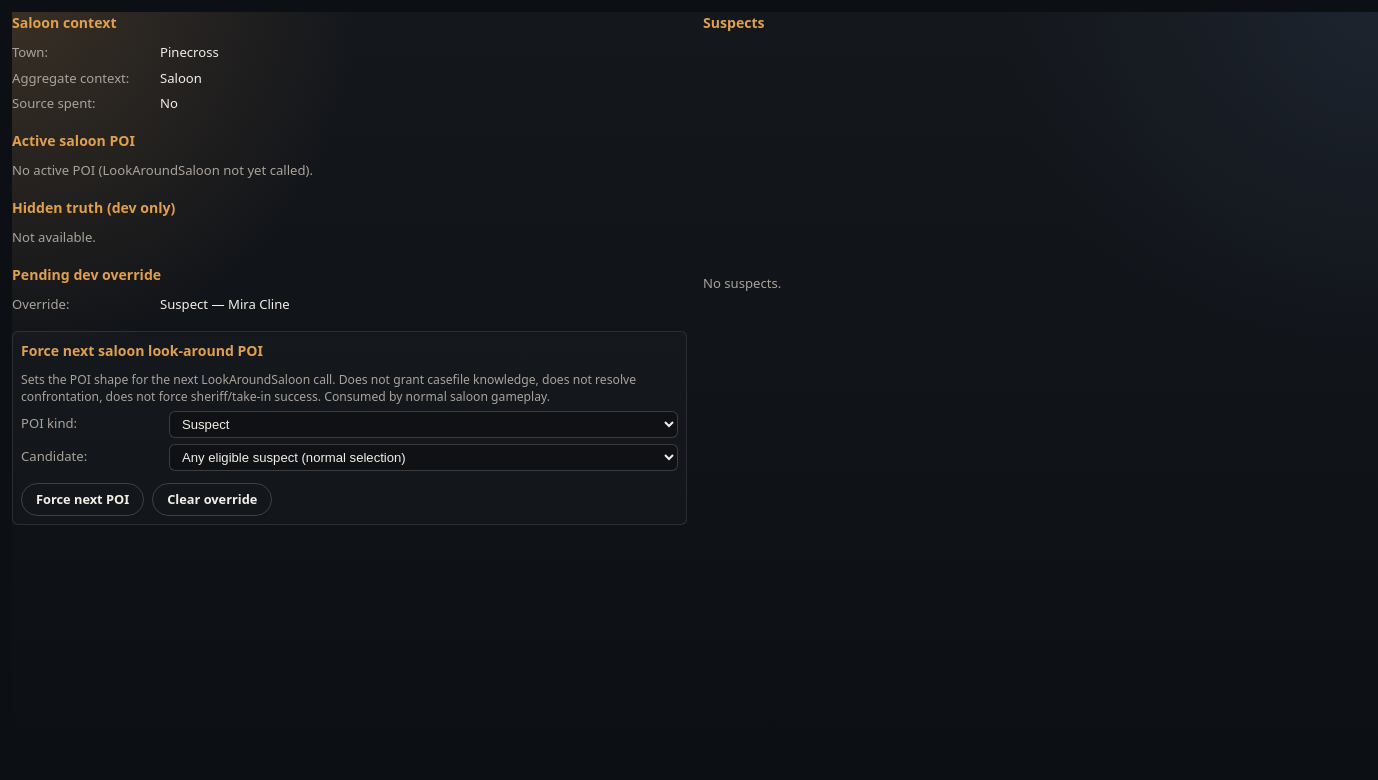
Test: SaloonDevPanel › preserves the saloon override after a rejected clear and shows its removal after retry
The width and height of the screenshot is (1378, 780).
Expected: the text "Pending dev override" shows "Mira Cline", [208,295,290,313]
Click the button "Clear override": (212, 499) [152,483,272,516]
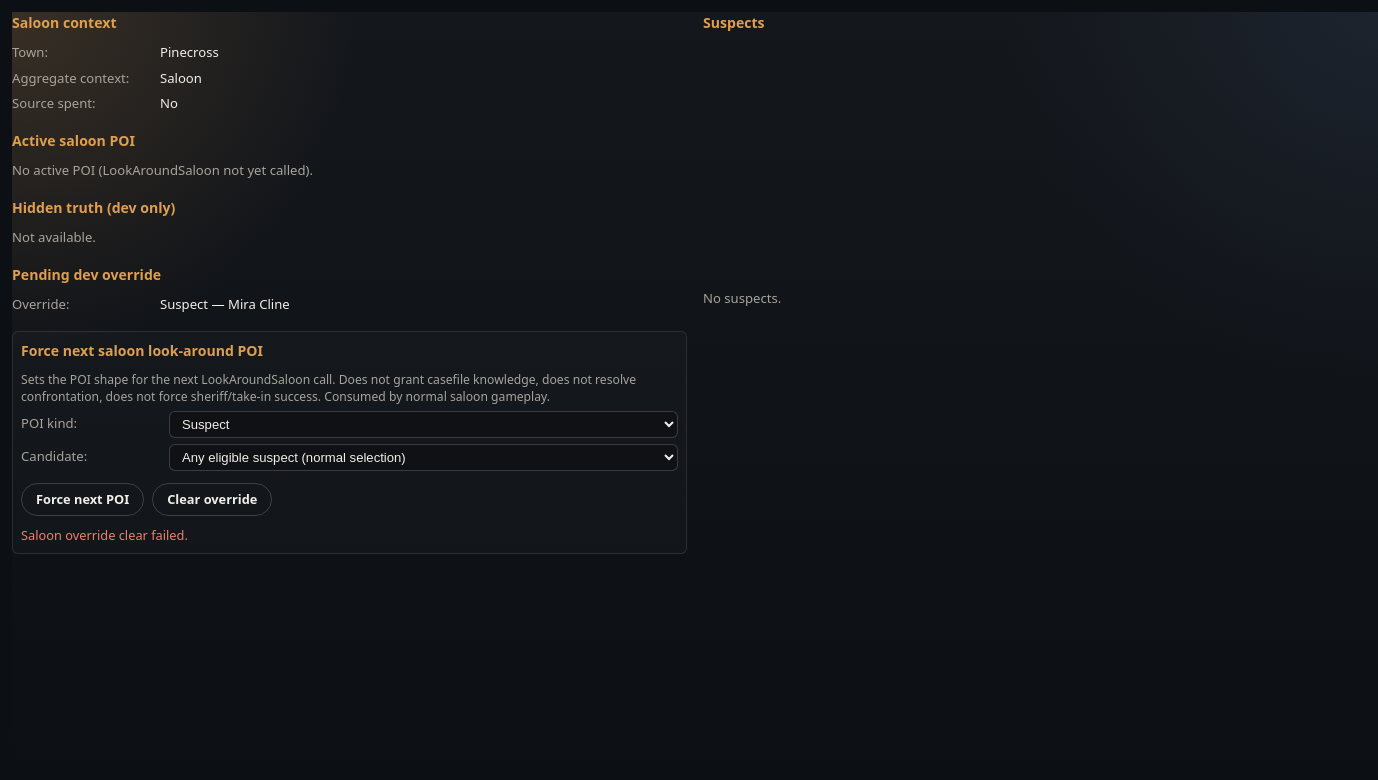
Expected: the text "Pending dev override" shows "Mira Cline", [208,295,290,313]
Now the text "Saloon override clear failed." is shown, box [21,526,188,544]
Click the button "Clear override": (212, 499) [152,483,272,516]
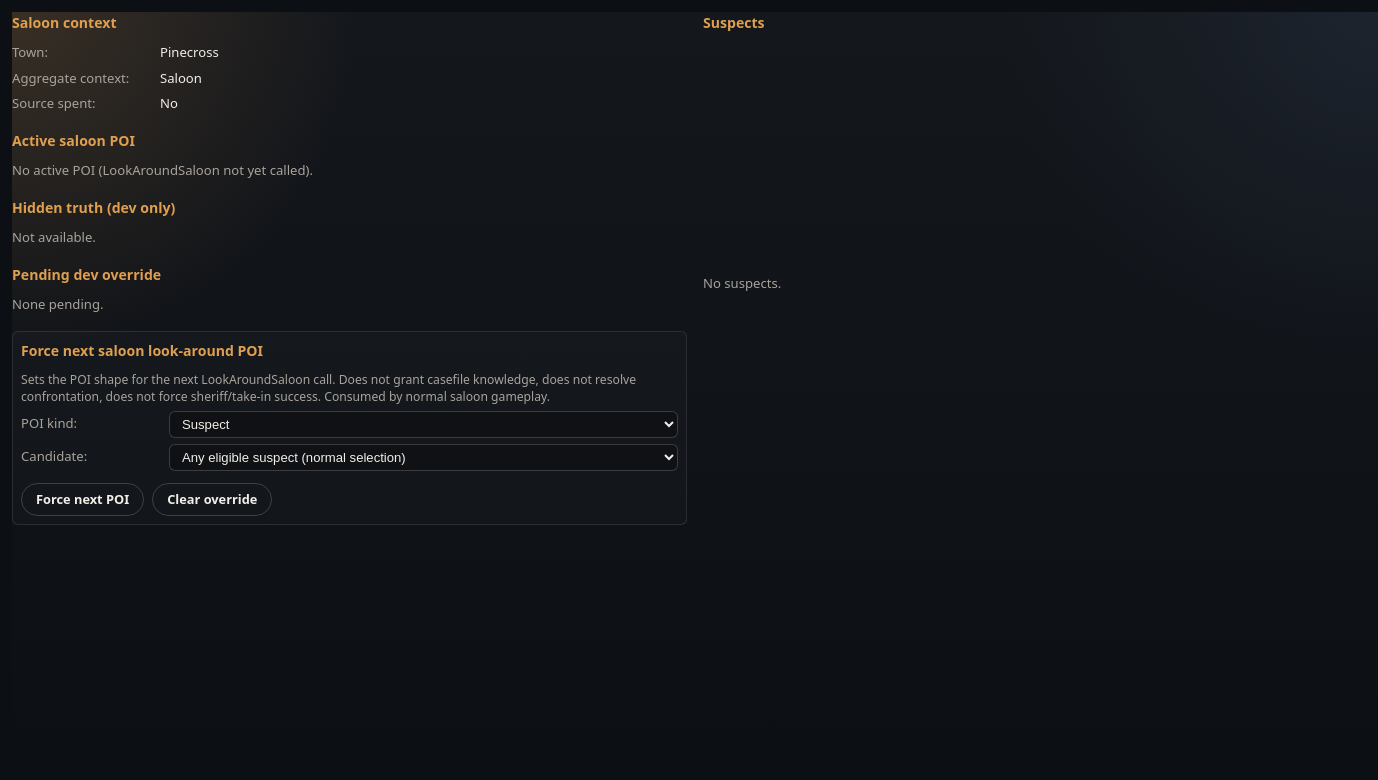
Now the text "Pending dev override" shows "None pending.", box [12,295,104,313]
Now the text "Saloon override clear failed." is gone
